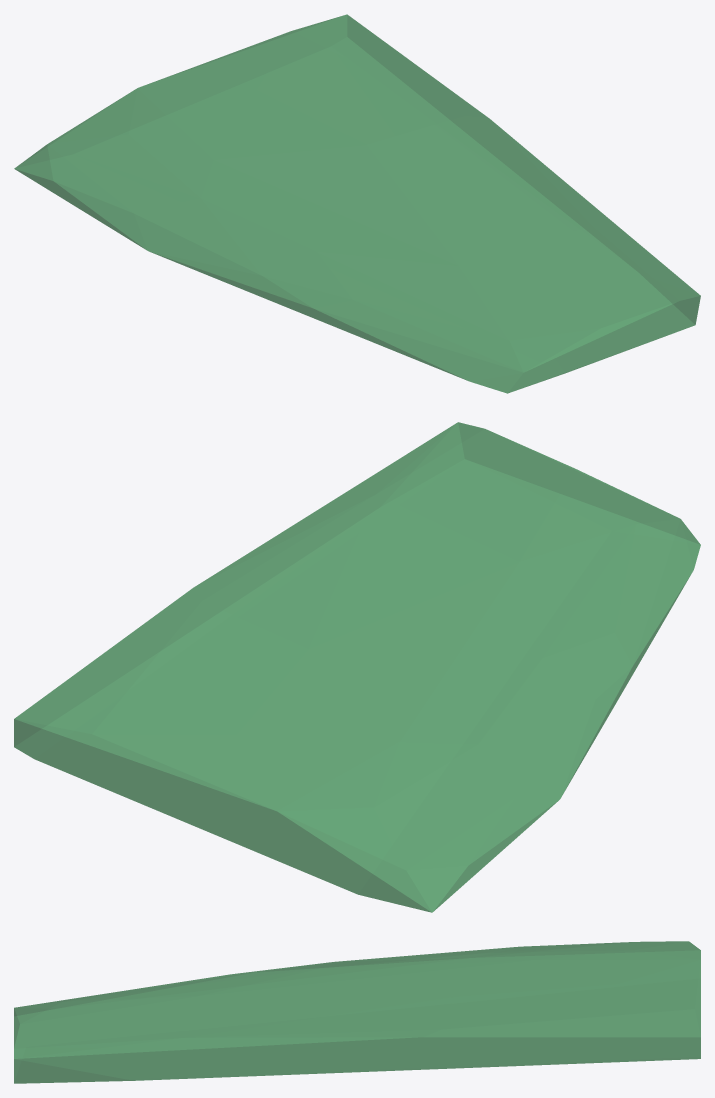
The picture shows the model from 3 angles, top to bottom: view 1: azimuth 30°, elevation 25°; view 2: azimuth 150°, elevation 25°; view 3: azimuth 270°, elevation 25°; orthographic projection. The views are drawn at different scales.
Parts seen in each view (by area): view 1: Shape_IndexedFaceSet.008_Shape_IndexedFaceSet.11152; view 2: Shape_IndexedFaceSet.008_Shape_IndexedFaceSet.11152; view 3: Shape_IndexedFaceSet.008_Shape_IndexedFaceSet.11152.
Part boxes in pixels (x1,y1,x2,y2): Shape_IndexedFaceSet.008_Shape_IndexedFaceSet.11152: (14, 14, 700, 393); Shape_IndexedFaceSet.008_Shape_IndexedFaceSet.11152: (14, 422, 700, 912); Shape_IndexedFaceSet.008_Shape_IndexedFaceSet.11152: (14, 941, 700, 1083).
Bounding box in the file's own units: 0.2035 × 0.0427 × 0.3742.
